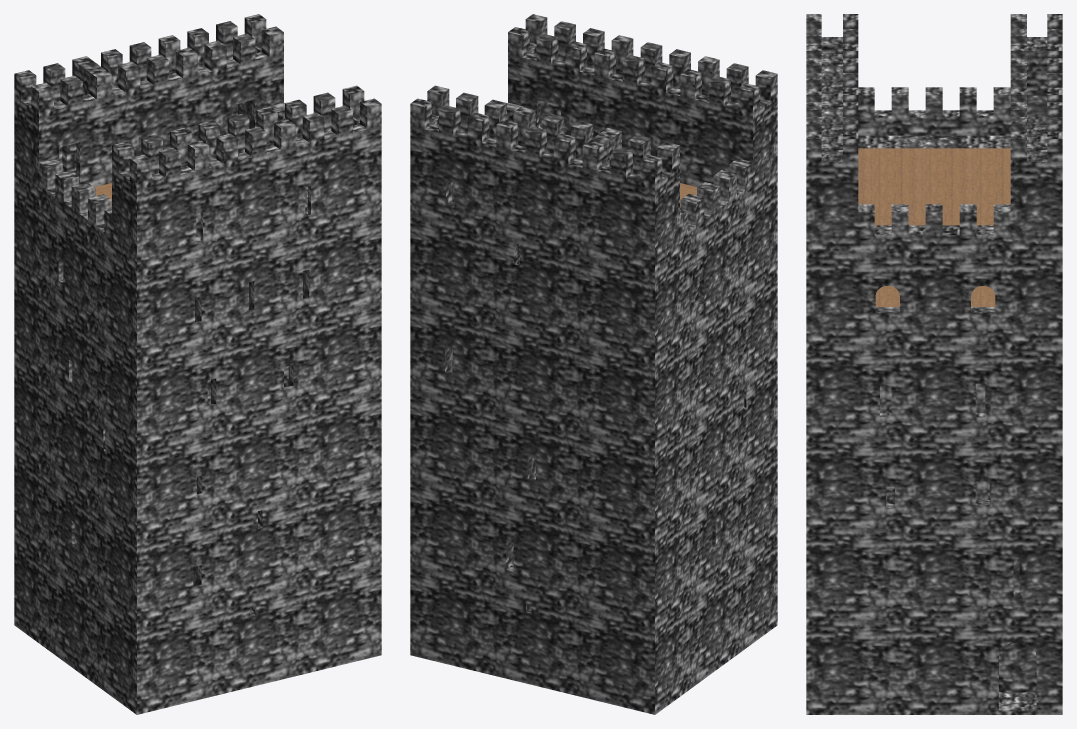
The model's file is medieval_tower_2.obj.
3 renders of one model, left to right at view 1: azimuth 30°, elevation 25°; view 2: azimuth 150°, elevation 25°; view 3: azimuth 270°, elevation 25°, orthographic. The views are drawn at different scales.
Parts seen in each view (by area): view 1: Tower_Tower_Stone_1; view 2: Tower_Tower_Stone_1; view 3: Tower_Tower_Stone_1, Tower_Tower_Planks.
Part boxes in pixels (bbox=[...]): Tower_Tower_Stone_1: bbox=[14, 14, 381, 714]; Tower_Tower_Stone_1: bbox=[410, 14, 777, 714]; Tower_Tower_Stone_1: bbox=[806, 14, 1062, 714]; Tower_Tower_Planks: bbox=[858, 148, 1010, 306].
Bounding box in the file's own units: 11.67 × 25.1 × 10.12.
3 materials, 2 textured.
